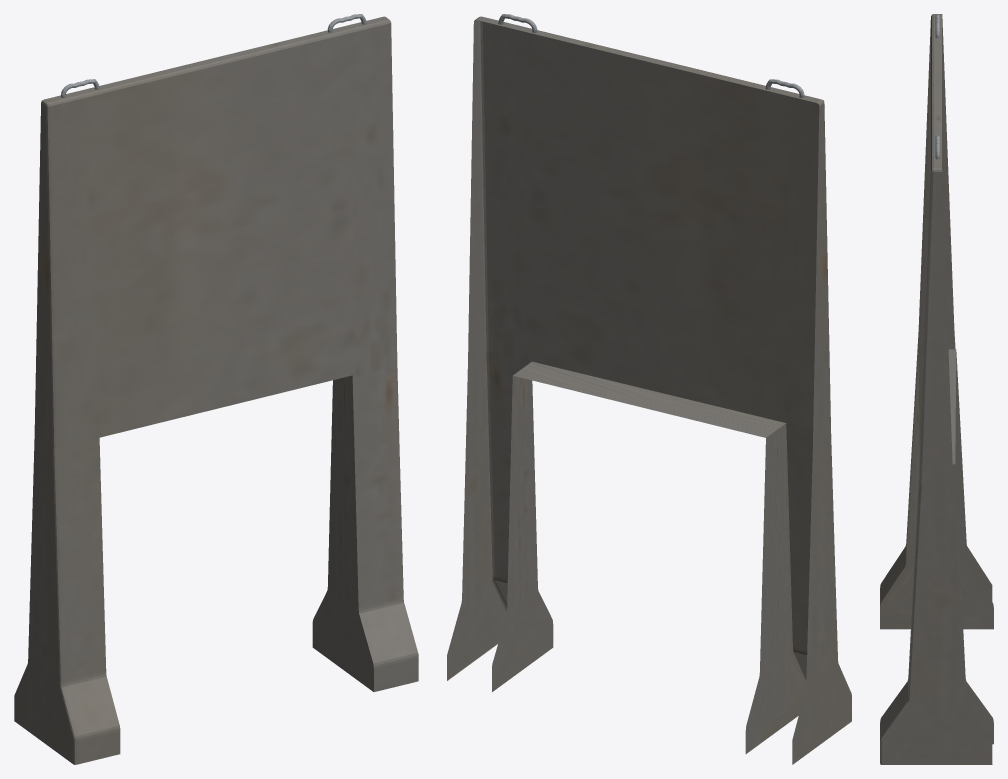
File: roll_barrier.glb
3 views of the same model, side by side, from view 1: azimuth 30°, elevation 25°; view 2: azimuth 150°, elevation 25°; view 3: azimuth 270°, elevation 25° (orthographic). The views are drawn at different scales.
Parts seen in each view (by area): view 1: wall2; view 2: wall2; view 3: wall2.
Part boxes in pixels (x1,y1,x2,y2): wall2: (14,14,418,764); wall2: (447,14,851,764); wall2: (880,14,993,764).
Bounding box in the file's own units: 1.38 × 2.5 × 0.4253.
Materials: 1 (1 with a texture image).
